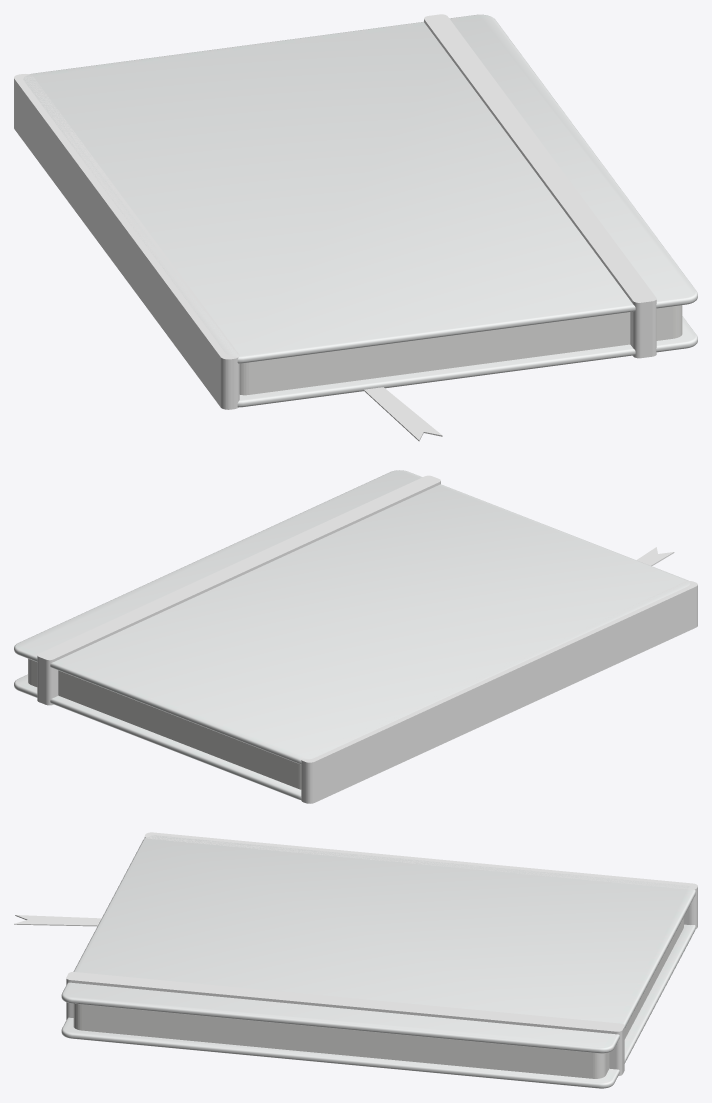
Rendered from notebook.glb.
3 renders of one model, top to bottom at view 1: azimuth 30°, elevation 25°; view 2: azimuth 150°, elevation 25°; view 3: azimuth 270°, elevation 25°, orthographic. The views are drawn at different scales.
Visible parts, largest first — view 1: cover_front, spine, pages, band, cover_back, ribbon; view 2: cover_front, spine, band, pages, cover_back; view 3: cover_front, pages, cover_back, band, spine, ribbon.
Part boxes in pixels (x1,y1,x2,y2): cover_front: (23, 14, 697, 363); spine: (14, 74, 239, 409); pages: (239, 305, 682, 395); band: (424, 14, 656, 358); cover_back: (237, 316, 697, 407); ribbon: (364, 387, 442, 441); cover_front: (14, 470, 689, 764); spine: (301, 581, 697, 803); band: (37, 475, 440, 705); pages: (28, 658, 301, 789); cover_back: (14, 674, 301, 799); cover_front: (61, 835, 695, 1053); pages: (73, 917, 683, 1078); cover_back: (61, 924, 695, 1088); band: (66, 972, 624, 1075); spine: (144, 832, 697, 928); ribbon: (14, 915, 101, 926).
Size of the model in its own units: 0.1955 by 0.0187 by 0.261.
Materials: 7 (7 with a texture image).
